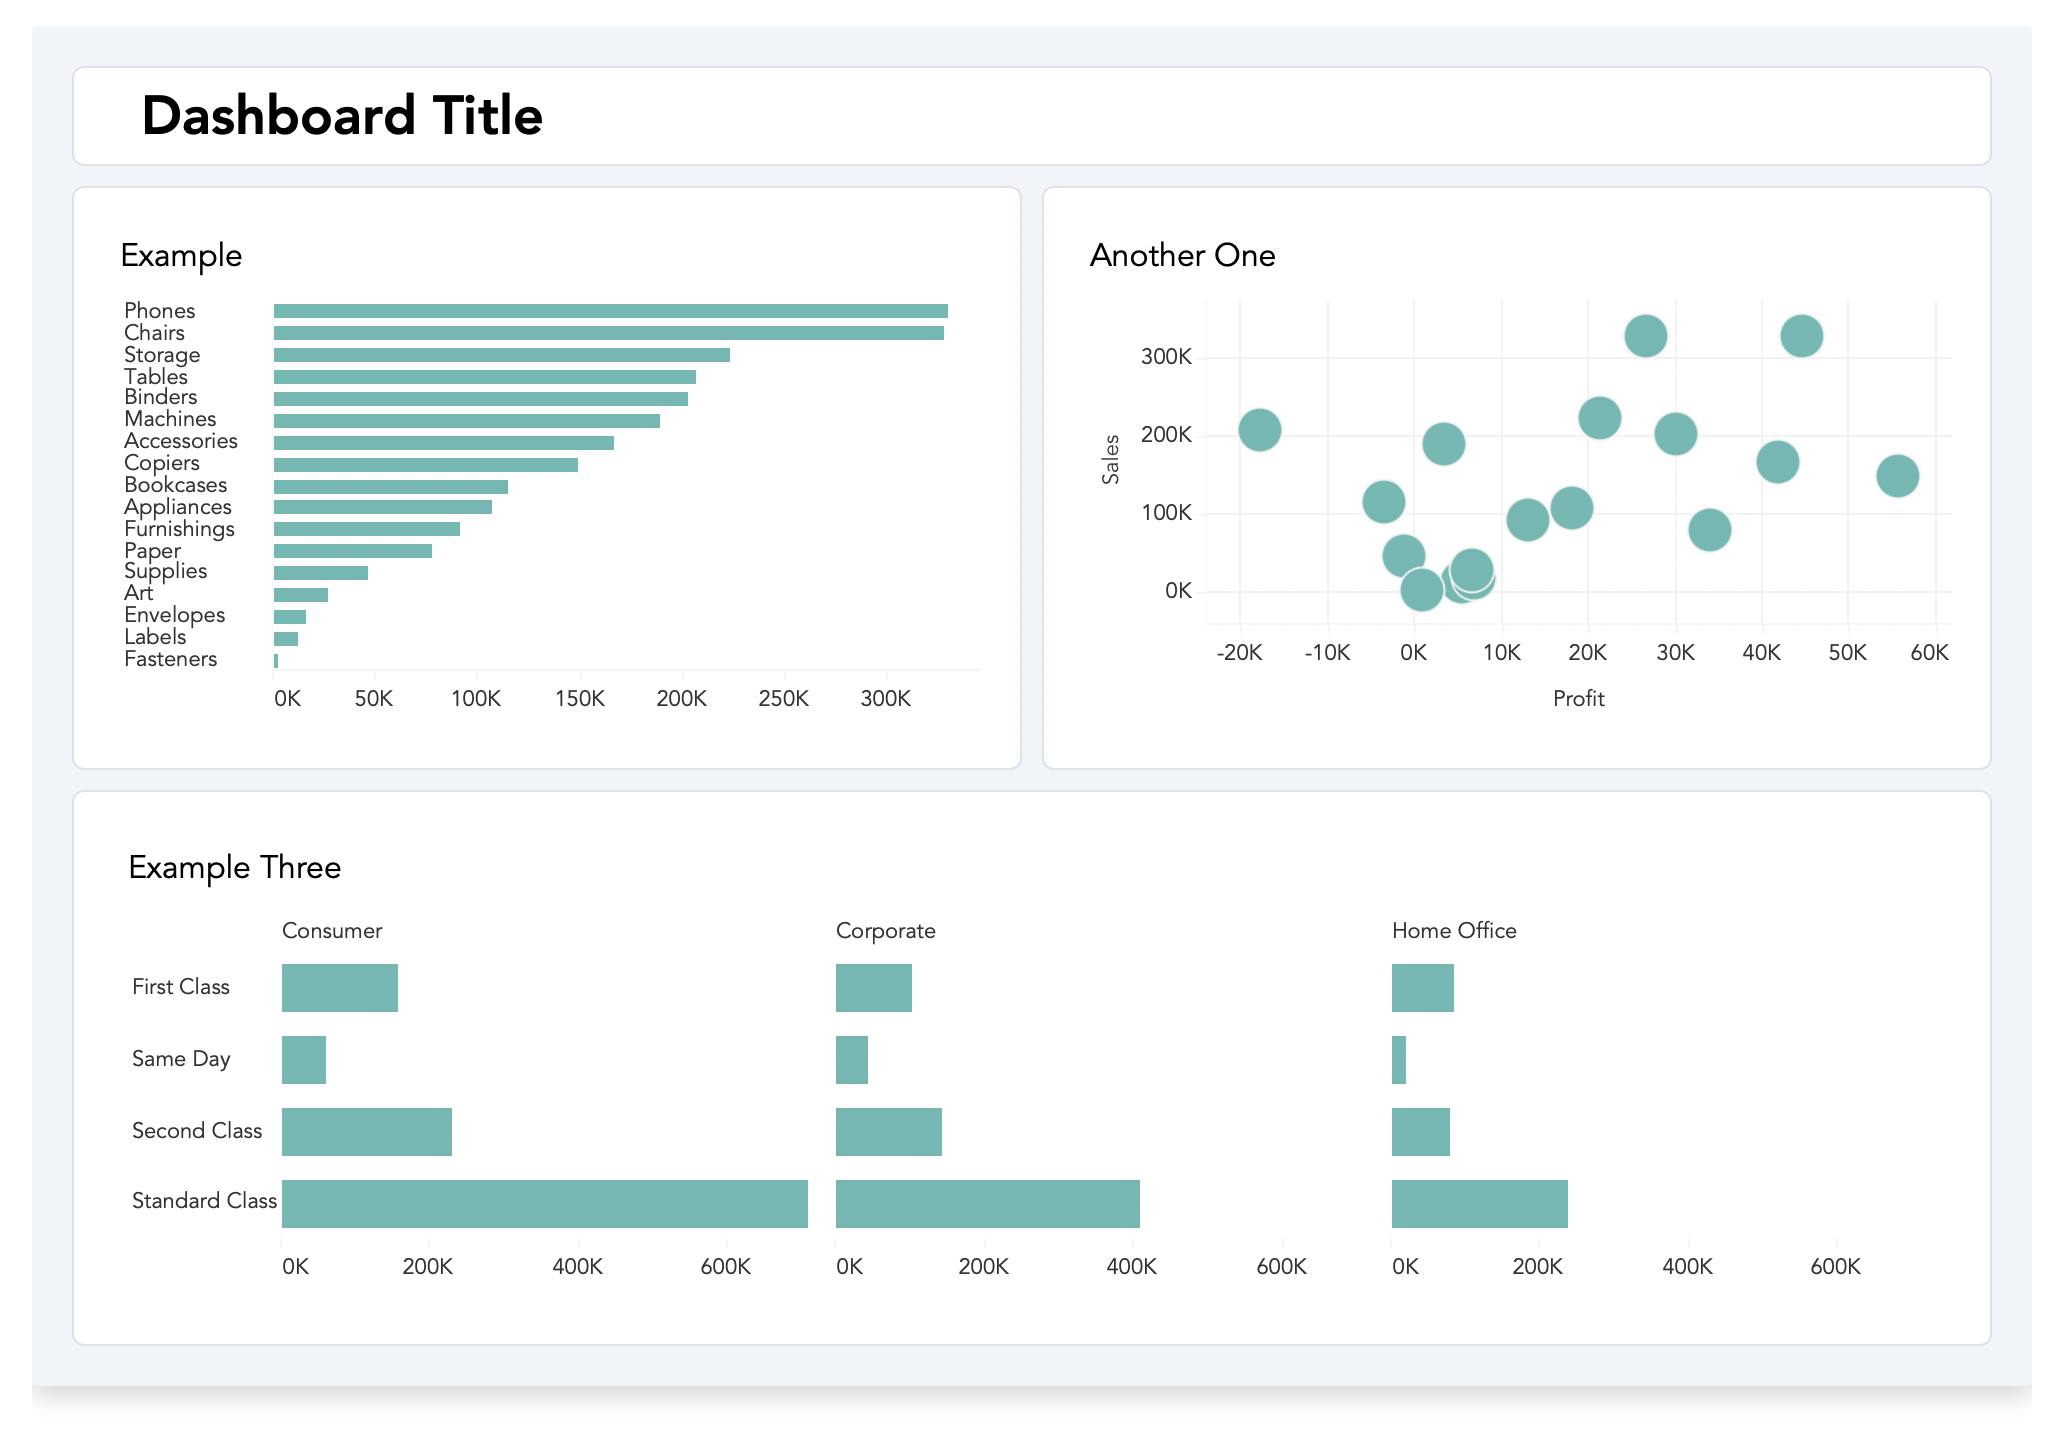

What the dashboard file says about the page in this screenshot:
{"tool":"tableau","page":{"name":"Dashboard","canvas":[1000,680],"ordinal":0},"visuals":[{"type":"dashboard-object","param":"[com.example.extensions.name].[0.1.0].[https://fsulaunchercomp.github.io/Bootstr","box":[0,0,1000,680]},{"type":"blank","box":[0,0,1000,680]},{"type":"text","box":[20,15,961,50]},{"type":"blank","box":[20,65,961,20]},{"type":"worksheet","title":"BarChart","mark":"Bar","rows":["Sub-Category"],"cols":["Sales"],"box":[20,85,300,300]},{"type":"blank","box":[320,85,15,300]},{"type":"worksheet","title":"Scatter","mark":"Circle","rows":["Sales"],"cols":["Profit"],"box":[335,85,646,300]},{"type":"blank","box":[20,385,961,20]},{"type":"worksheet","title":"MultiBarChart","mark":"Bar","rows":["Ship Mode"],"cols":["Segment","Sales"],"box":[20,405,961,250]}]}

Visuals, with their boxes in screenshot pixels (x1, y1, x2, y2), scaled from the page's 1000x680 canvas onto the 2072x1434 screenshot:
dashboard-object: (0,0,2071,1433)
blank: (0,0,2071,1433)
text: (41,32,2033,137)
blank: (41,137,2033,179)
"BarChart" worksheet (Bar marks): (41,179,663,812)
blank: (663,179,694,812)
"Scatter" worksheet (Circle marks): (694,179,2033,812)
blank: (41,812,2033,854)
"MultiBarChart" worksheet (Bar marks): (41,854,2033,1381)
